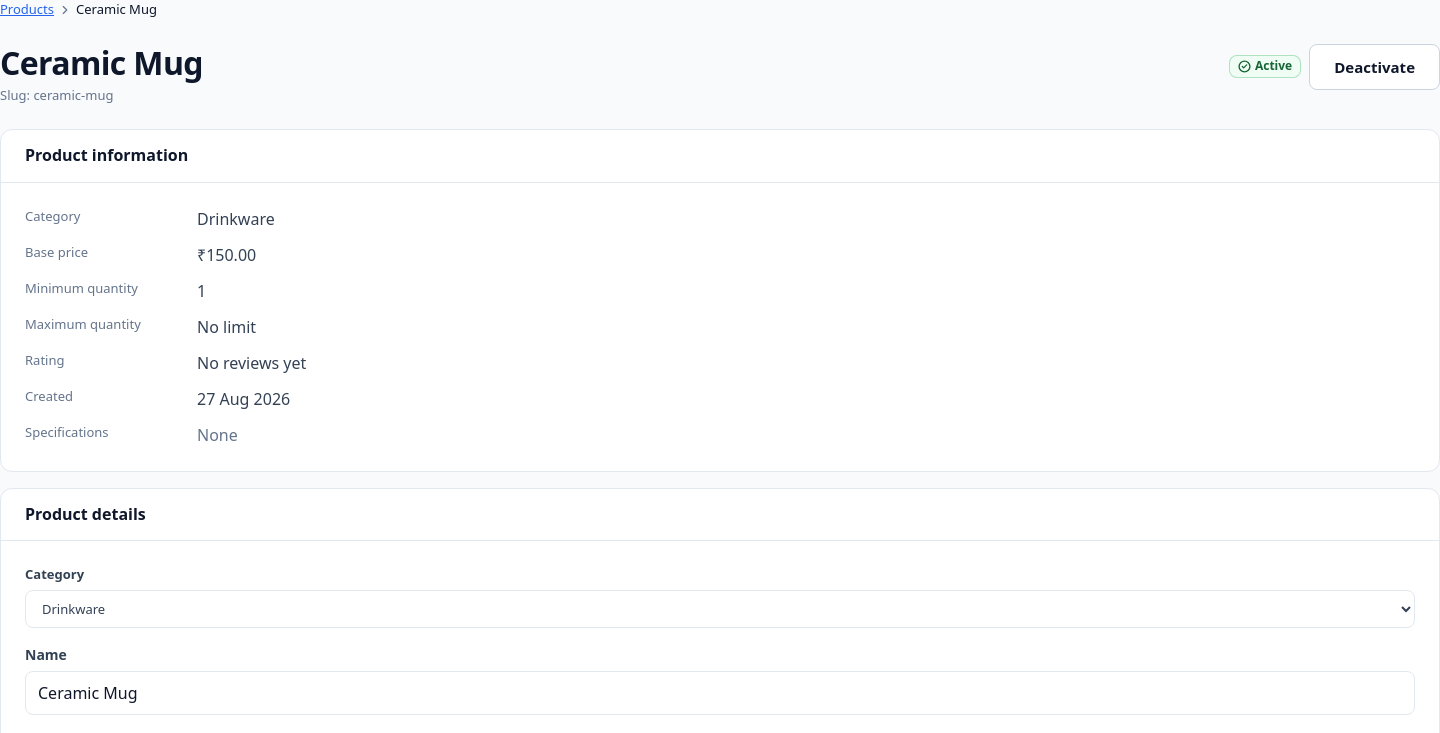
Test: AdminProductDetailPage › deactivates through a confirmation modal and stays on the page offering Reactivate
Click the button "Deactivate". click: (1375, 66)
box: [1309,44,1439,90]
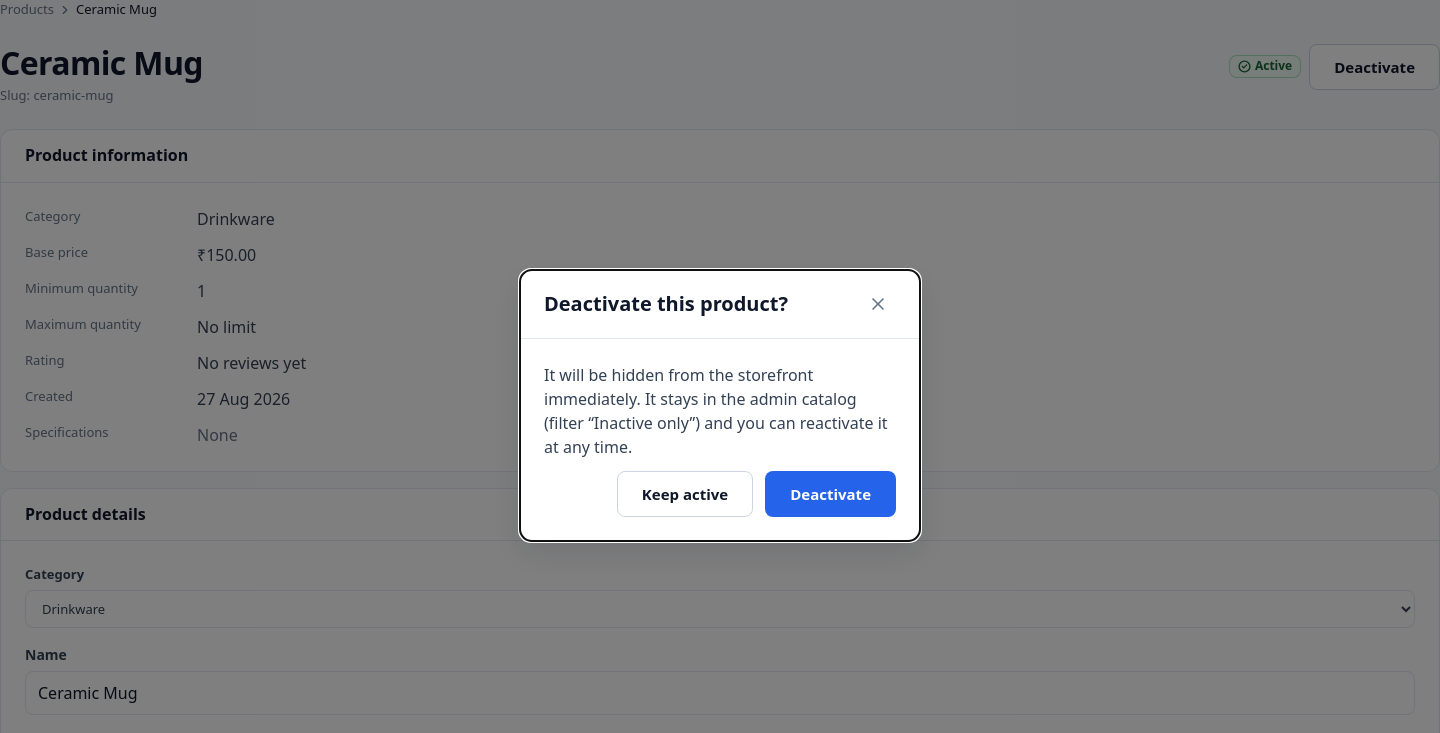
Click the button "Deactivate". click: (831, 494)
box: [765,470,896,516]
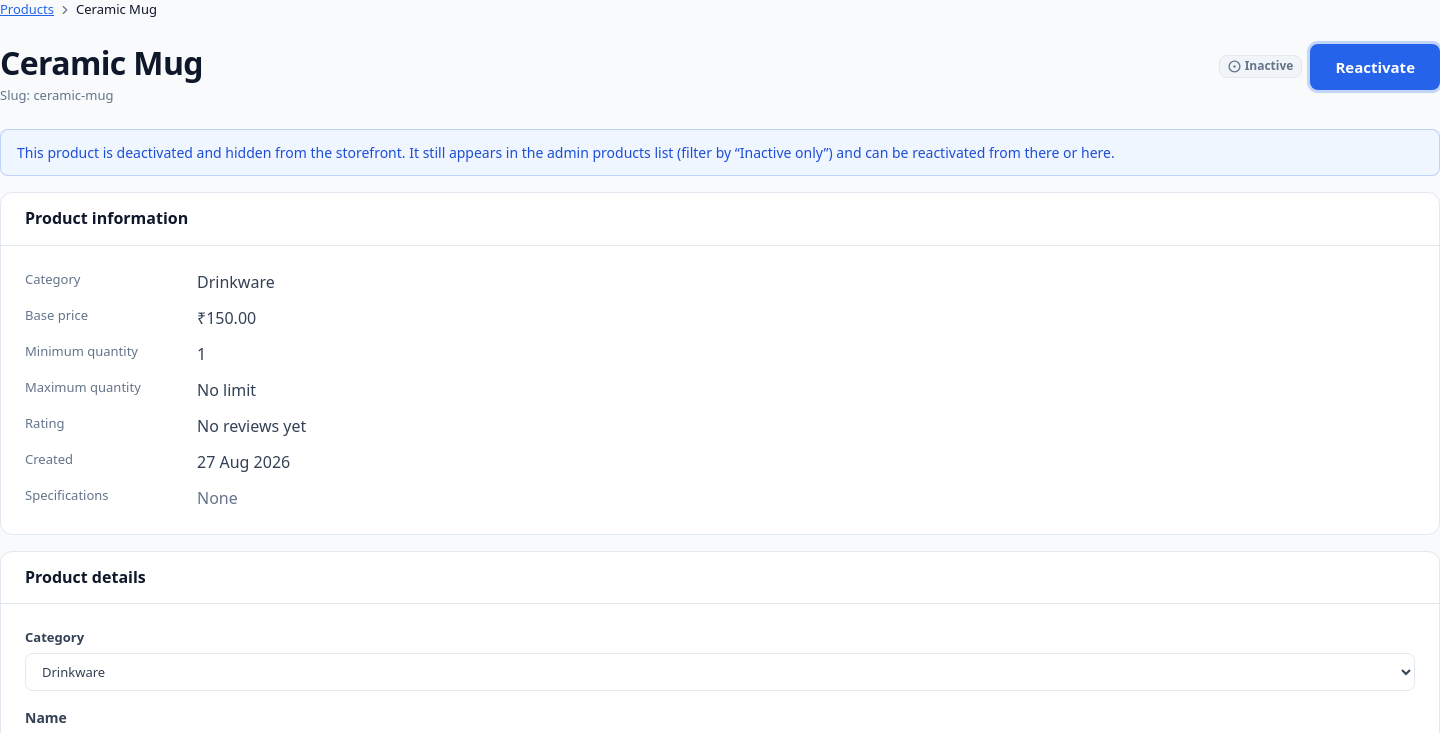
Result: the text "Inactive" is shown at [1245,58,1293,75]
Result: the button "Reactivate" is shown at [1310,44,1439,90]
